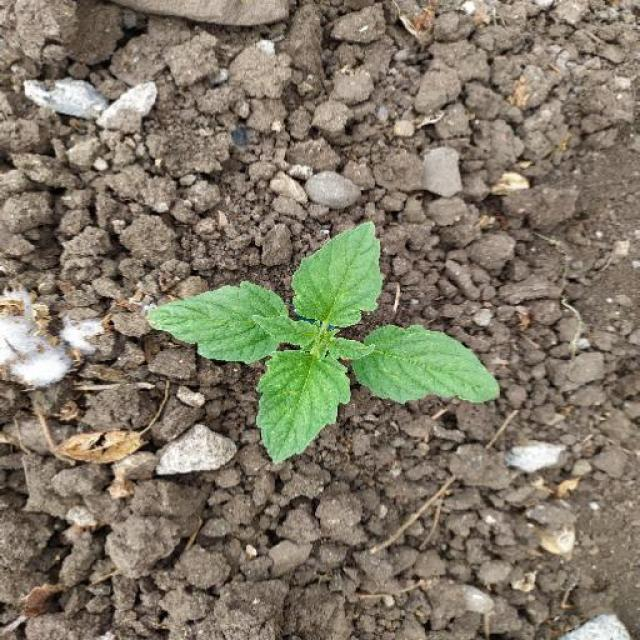crop: (109, 184, 539, 478)
